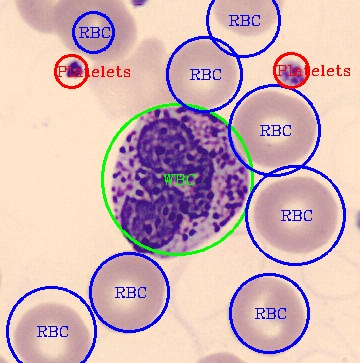Platelets: (273, 54, 312, 91), (60, 56, 88, 82)
RBC: (87, 32, 169, 123), (251, 174, 339, 256), (84, 250, 167, 336), (225, 272, 307, 358), (233, 87, 319, 168), (162, 37, 238, 113), (53, 0, 138, 63), (11, 298, 92, 361), (208, 0, 286, 38)
WBC: (109, 105, 248, 258)
